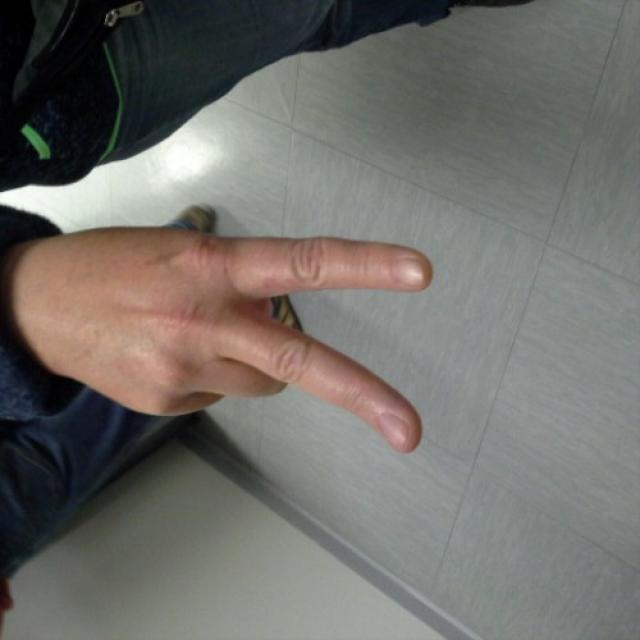scissors: (103, 226, 431, 457)
